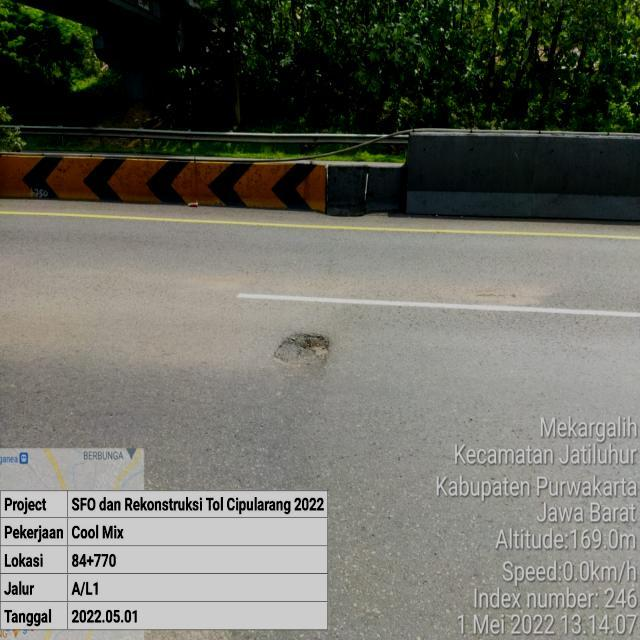Buraco: (269, 331, 334, 371)
